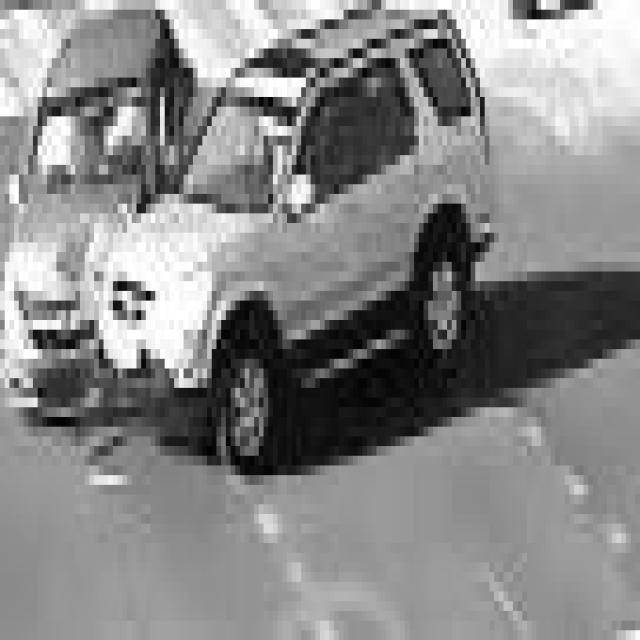accident: (2, 12, 494, 474)
